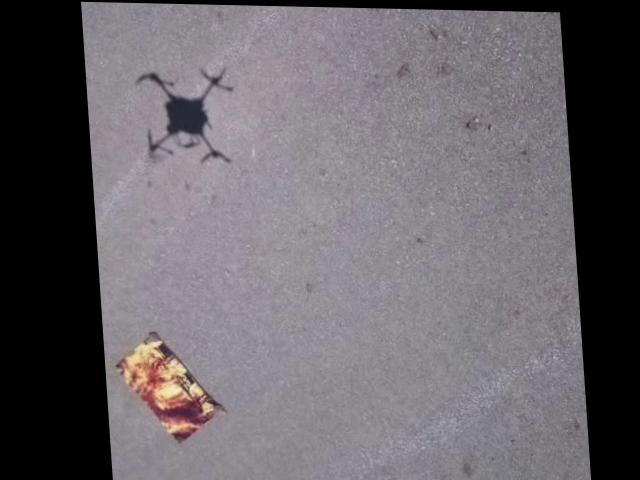fire-poster: (105, 328, 223, 444)
